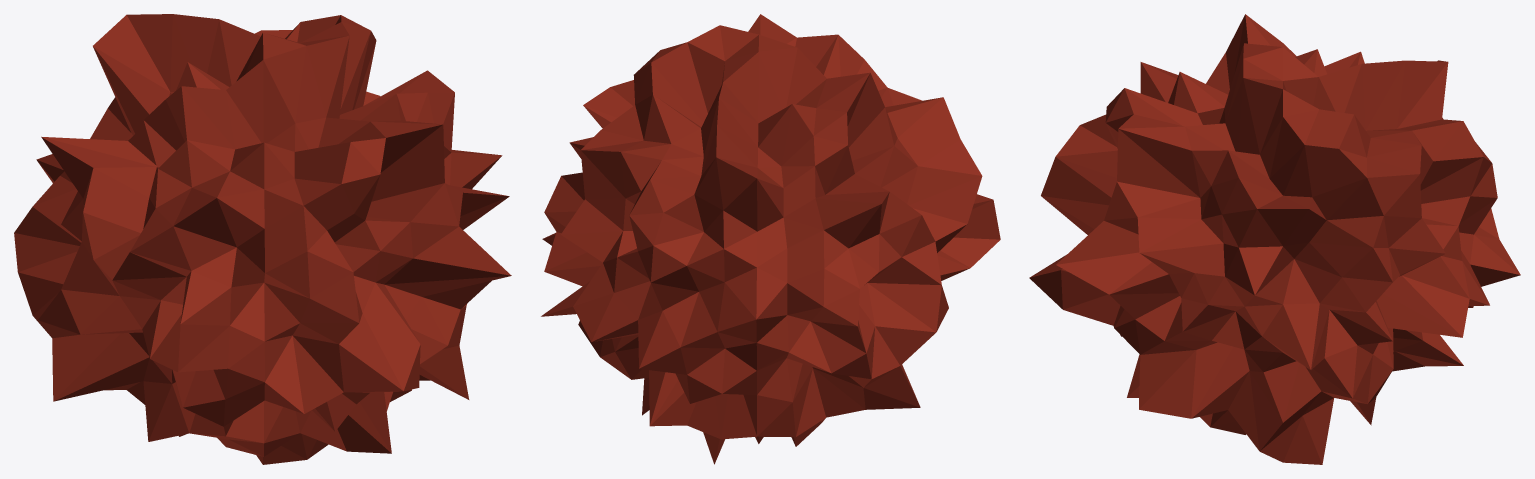
File: asteroid.glb
The picture shows the model from 3 angles, left to right: view 1: azimuth 30°, elevation 25°; view 2: azimuth 150°, elevation 25°; view 3: azimuth 270°, elevation 25°; orthographic projection. The views are drawn at different scales.
Parts seen in each view (by area): view 1: Realistic_Red_Asteroid_body; view 2: Realistic_Red_Asteroid_body; view 3: Realistic_Red_Asteroid_body.
Part boxes in pixels (x1,y1,x2,y2): Realistic_Red_Asteroid_body: (14,14,511,464); Realistic_Red_Asteroid_body: (541,14,1000,464); Realistic_Red_Asteroid_body: (1029,14,1520,464).
Size of the model in its own units: 1.14 by 1.08 by 1.24.
